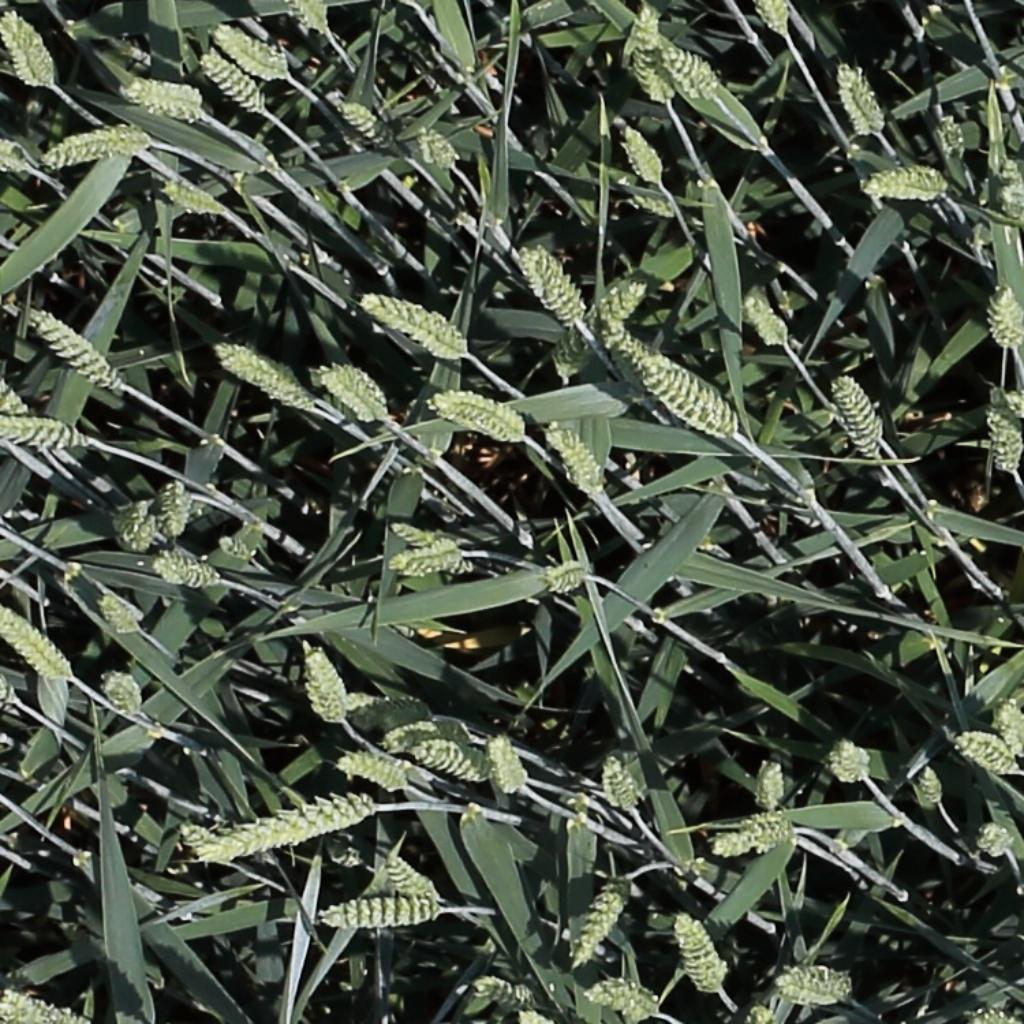0-0: (607, 327, 744, 439), (203, 791, 377, 861), (554, 274, 649, 382), (300, 640, 411, 727), (363, 292, 475, 362), (28, 307, 122, 390), (217, 344, 312, 408), (521, 241, 591, 327), (569, 880, 630, 973), (0, 602, 70, 681), (832, 371, 887, 461), (546, 421, 607, 501), (675, 907, 727, 996), (0, 8, 54, 92), (835, 58, 890, 140), (199, 49, 268, 114), (713, 809, 799, 858), (633, 6, 675, 106), (615, 113, 670, 189), (434, 394, 524, 439), (215, 24, 289, 76), (318, 361, 389, 415), (656, 43, 723, 98), (383, 846, 439, 907), (413, 742, 494, 782), (742, 288, 794, 350), (390, 535, 474, 573), (339, 95, 398, 148), (488, 729, 529, 804), (987, 383, 1019, 477), (602, 750, 643, 821), (0, 416, 87, 449), (45, 133, 147, 161), (0, 988, 76, 1024), (954, 735, 1019, 776), (338, 757, 412, 793), (94, 589, 144, 640), (356, 697, 439, 727), (415, 118, 460, 172), (160, 472, 196, 539), (101, 667, 144, 723), (864, 169, 956, 195), (118, 497, 157, 558), (989, 279, 1021, 353), (126, 81, 200, 113), (152, 555, 223, 588), (173, 822, 230, 860), (324, 906, 435, 925), (163, 178, 222, 212), (995, 697, 1024, 765), (936, 106, 969, 165), (998, 148, 1022, 229), (0, 359, 31, 417), (760, 755, 787, 819), (585, 988, 660, 1011), (385, 729, 460, 752), (757, 0, 797, 43), (831, 742, 872, 782), (472, 980, 535, 1006), (544, 560, 586, 599), (778, 978, 856, 999), (290, 0, 333, 38), (918, 759, 948, 813), (390, 522, 449, 547), (219, 526, 254, 563), (976, 826, 1013, 858), (0, 128, 24, 166), (969, 1011, 1018, 1024)
